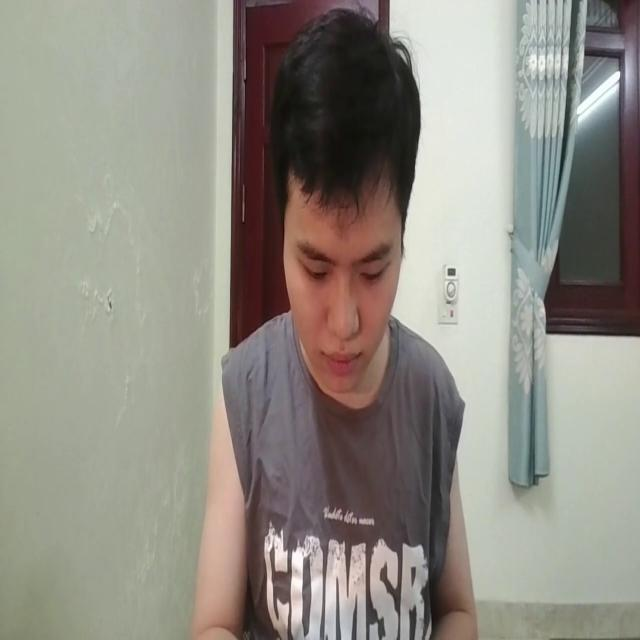student: (195, 6, 474, 640)
